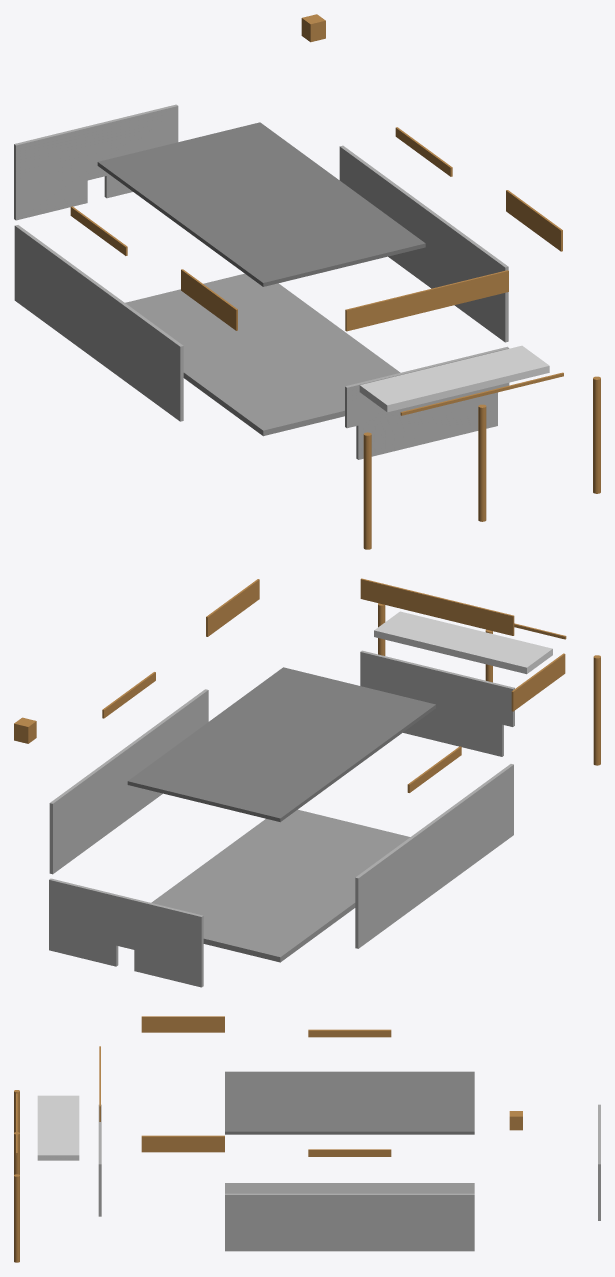
File: building_phase_1a_iter_004.glb
3 views of the same model, one above another, from view 1: azimuth 30°, elevation 25°; view 2: azimuth 150°, elevation 25°; view 3: azimuth 270°, elevation 25° (orthographic). The views are drawn at different scales.
Visible parts, largest first — view 1: Roof, Foundation, Wall_Left, Wall_Rear, Wall_Right, Wall_Front, Canopy_Roof, Parapet_Front, Parapet_Right_Front, Parapet_Left_Front, Canopy_Post_2, Canopy_Post_1 (+2 smaller); view 2: Roof, Foundation, Wall_Left, Wall_Rear, Wall_Right, Wall_Front, Canopy_Roof, Parapet_Front, Parapet_Left_Front, Parapet_Right_Front, Canopy_Post_1, Parapet_Left_Middle (+1 smaller); view 3: Roof, Wall_Right, Canopy_Roof, Foundation, Parapet_Right_Front, Parapet_Left_Front, Parapet_Left_Middle, Parapet_Right_Middle, Canopy_Post_3, Wall_Front, Wall_Rear.
Part boxes in pixels (x1,y1,x2,y2): Roof: [97, 122, 425, 286]; Foundation: [125, 273, 400, 436]; Wall_Left: [14, 225, 183, 421]; Wall_Rear: [14, 104, 178, 220]; Wall_Right: [339, 145, 508, 342]; Wall_Front: [345, 346, 509, 459]; Canopy_Roof: [359, 345, 549, 412]; Parapet_Front: [345, 270, 508, 331]; Parapet_Right_Front: [506, 190, 562, 251]; Parapet_Left_Front: [181, 269, 237, 330]; Canopy_Post_2: [478, 404, 486, 521]; Canopy_Post_1: [363, 432, 371, 549]; Roof: [127, 667, 435, 822]; Foundation: [151, 809, 410, 962]; Wall_Left: [355, 764, 513, 948]; Wall_Rear: [49, 878, 203, 987]; Wall_Right: [49, 689, 208, 874]; Wall_Front: [360, 650, 514, 756]; Canopy_Roof: [374, 611, 552, 674]; Parapet_Front: [360, 578, 514, 635]; Parapet_Left_Front: [511, 653, 565, 711]; Parapet_Right_Front: [206, 579, 259, 636]; Canopy_Post_1: [593, 655, 600, 765]; Parapet_Left_Middle: [407, 746, 461, 792]; Roof: [225, 1071, 474, 1134]; Wall_Right: [225, 1193, 474, 1251]; Canopy_Roof: [37, 1095, 79, 1160]; Foundation: [225, 1183, 474, 1193]; Parapet_Right_Front: [141, 1135, 224, 1152]; Parapet_Left_Front: [141, 1016, 224, 1032]; Parapet_Left_Middle: [308, 1029, 391, 1037]; Parapet_Right_Middle: [308, 1149, 391, 1156]; Canopy_Post_3: [14, 1174, 19, 1262]; Wall_Front: [98, 1104, 101, 1216]; Wall_Rear: [598, 1104, 600, 1220].
Size of the model in its own units: 8.74 by 5.47 by 17.64.
